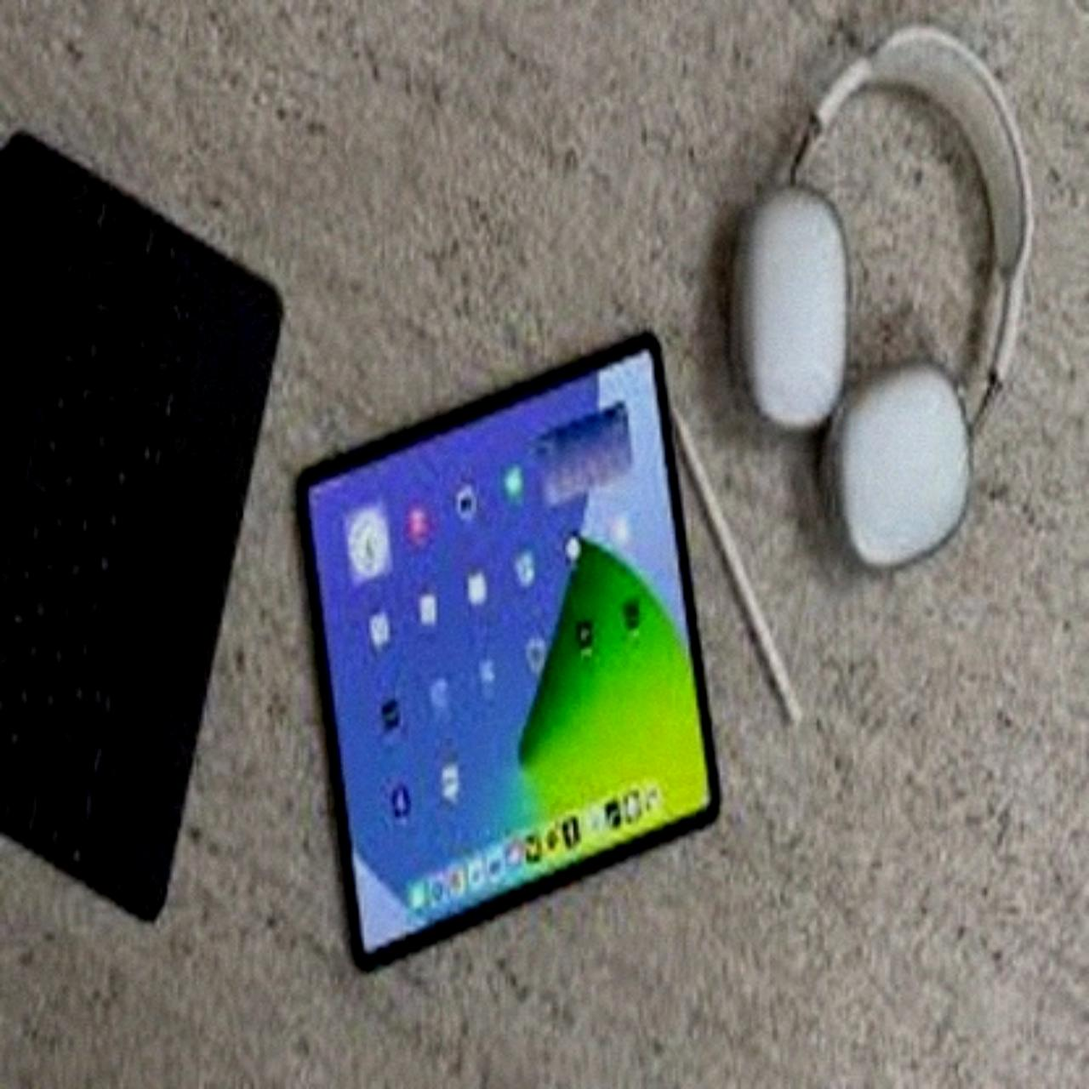Tablet_PC: (283, 332, 751, 986)
